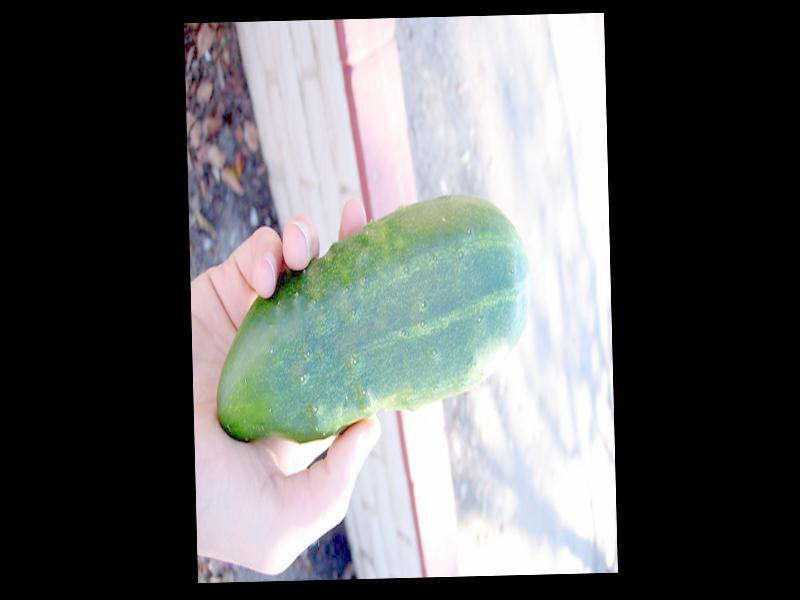Cucumber: (212, 190, 531, 443)
